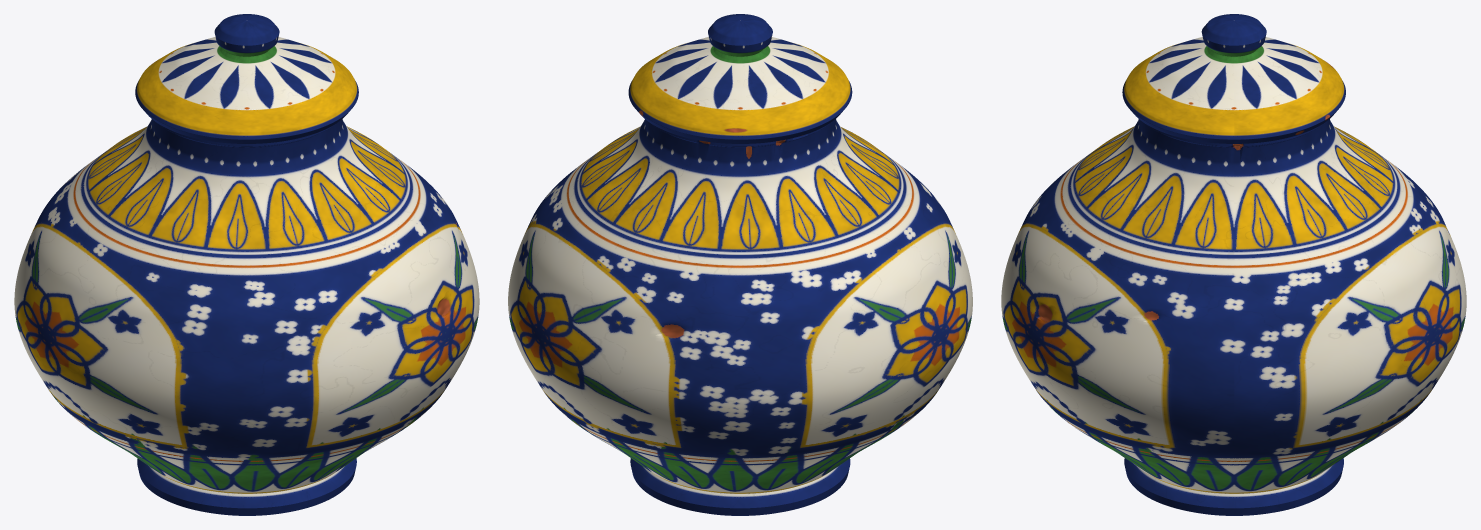
Rendered from w3_court_talavera_round.glb.
3 views of the same model, side by side, from view 1: azimuth 30°, elevation 25°; view 2: azimuth 150°, elevation 25°; view 3: azimuth 270°, elevation 25° (orthographic).
Visible parts, largest first — view 1: w3_court_talavera_round; view 2: w3_court_talavera_round; view 3: w3_court_talavera_round.
Boxes of the visible parts, left/top/right/bottom form: w3_court_talavera_round: left=14, top=14, right=479, bottom=515; w3_court_talavera_round: left=508, top=14, right=972, bottom=515; w3_court_talavera_round: left=1001, top=14, right=1466, bottom=515.
Bounding box in the file's own units: 0.5163 × 0.554 × 0.5161.
2 materials, 2 textured.
